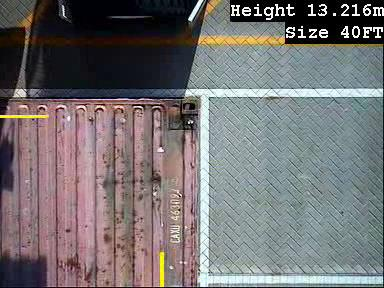groundmarker_2: (96, 115, 176, 169)
